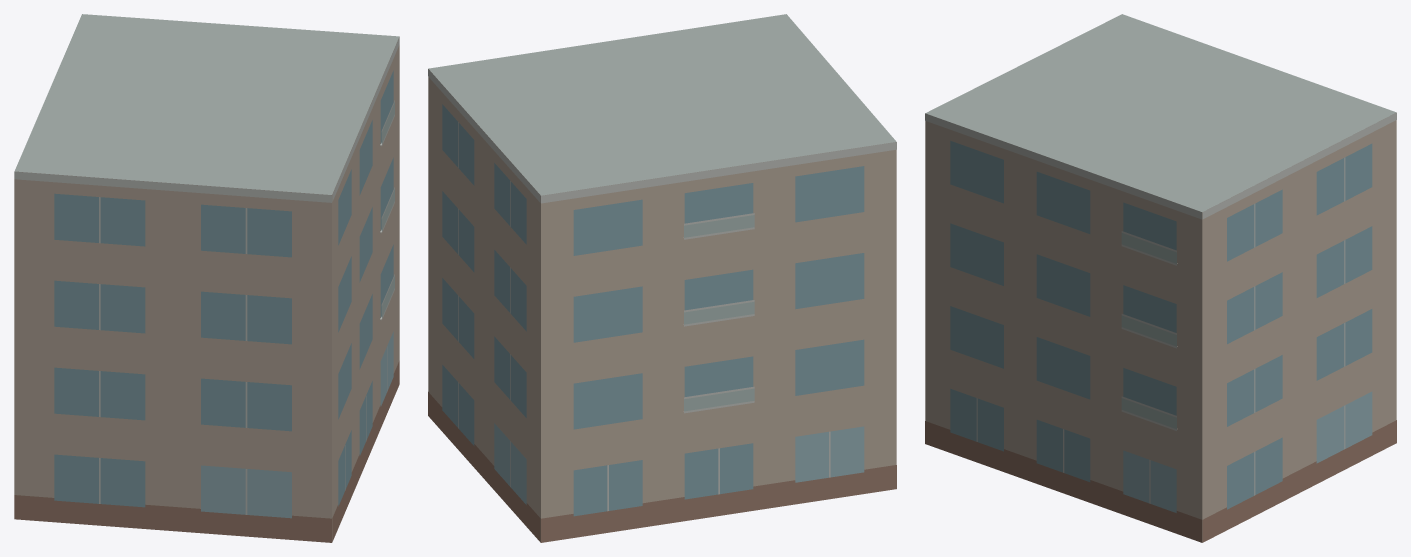
File: survey-upis-32924470.glb
The picture shows the model from 3 angles, left to right: view 1: azimuth 30°, elevation 25°; view 2: azimuth 150°, elevation 25°; view 3: azimuth 270°, elevation 25°; orthographic projection. The views are drawn at different scales.
Parts seen in each view (by area): view 1: survey-upis-32924470.tmp; view 2: survey-upis-32924470.tmp; view 3: survey-upis-32924470.tmp.
Part boxes in pixels (x1=…): survey-upis-32924470.tmp: x1=14, y1=14, x2=399, y2=542; survey-upis-32924470.tmp: x1=428, y1=14, x2=896, y2=542; survey-upis-32924470.tmp: x1=925, y1=14, x2=1396, y2=542.
Bounding box in the file's own units: 13.96 × 10.85 × 14.03.
